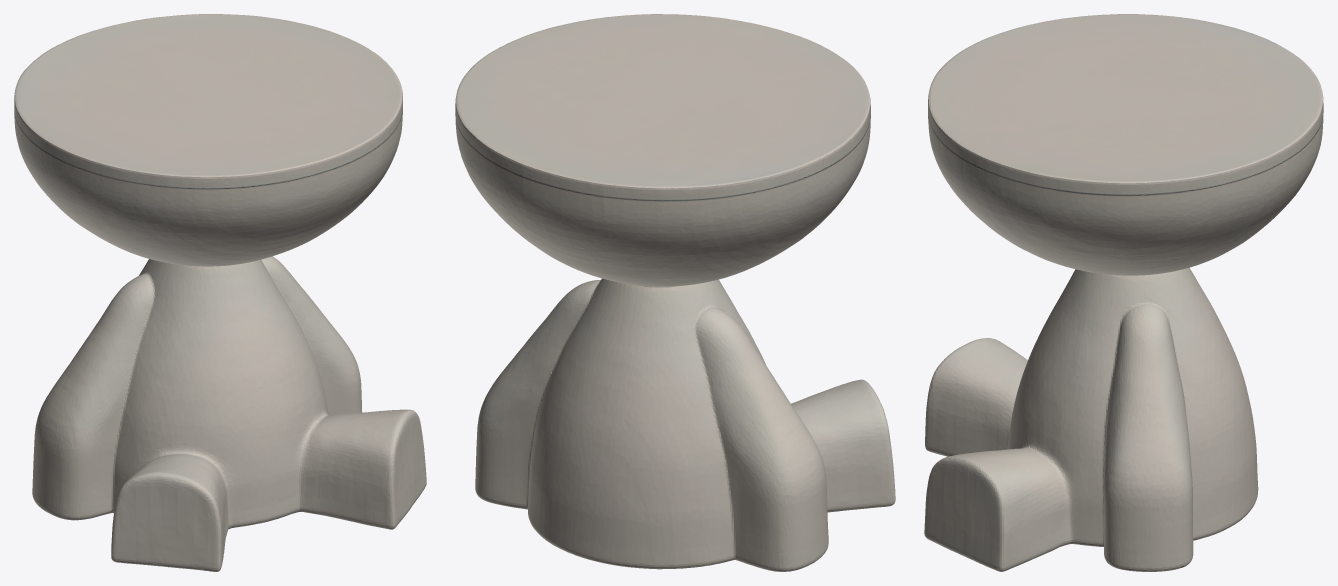
The model's file is 3ddd_chair.glb.
3 renders of one model, left to right at view 1: azimuth 30°, elevation 25°; view 2: azimuth 150°, elevation 25°; view 3: azimuth 270°, elevation 25°, orthographic. The views are drawn at different scales.
Parts seen in each view (by area): view 1: textured_mesh.obj; view 2: textured_mesh.obj; view 3: textured_mesh.obj.
Part boxes in pixels (x1,y1,x2,y2): textured_mesh.obj: [14, 14, 426, 571]; textured_mesh.obj: [455, 14, 895, 571]; textured_mesh.obj: [924, 14, 1323, 571].
Size of the model in its own units: 1.82 by 1.99 by 1.81.
Materials: 1 (1 with a texture image).
